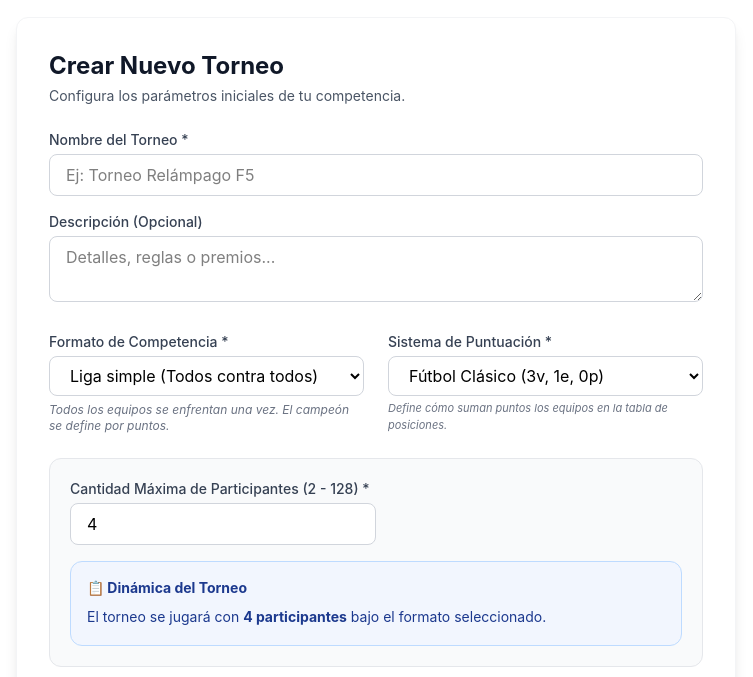
Scenario: CrearTorneoView (Formulario) › muestra la advertencia de llave asimétrica si los clasificados no son potencia de 2
Formato Liguilla + Playoffs
Select "Liguilla + Playoffs" in the dropdown showing "liga simple" below "Formato de Competencia *": point(206, 376) [49,356,364,396]
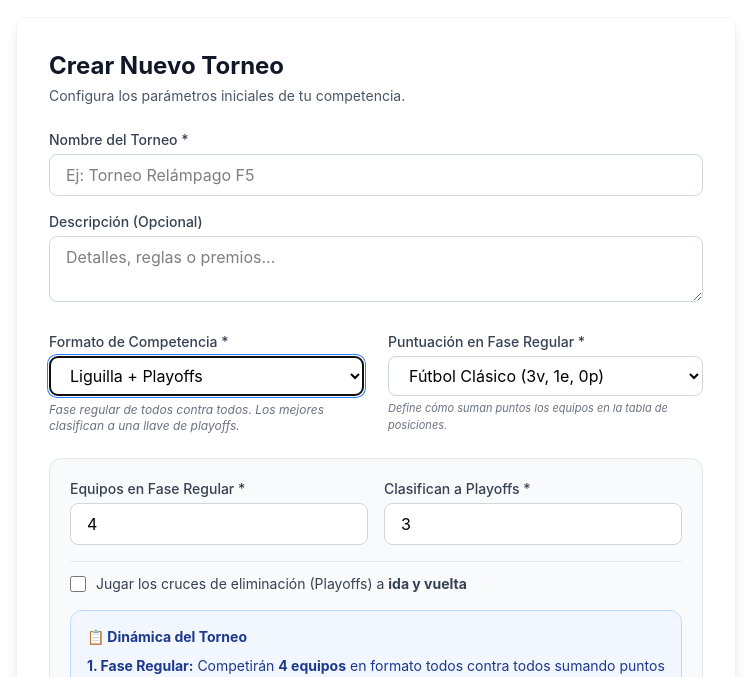
Equipos en fase regular: 16
Replace the text in the number field with placeholder "Ej: 16" below "Equipos en Fase Regular *" with "16": point(219, 524) [70,503,368,545]
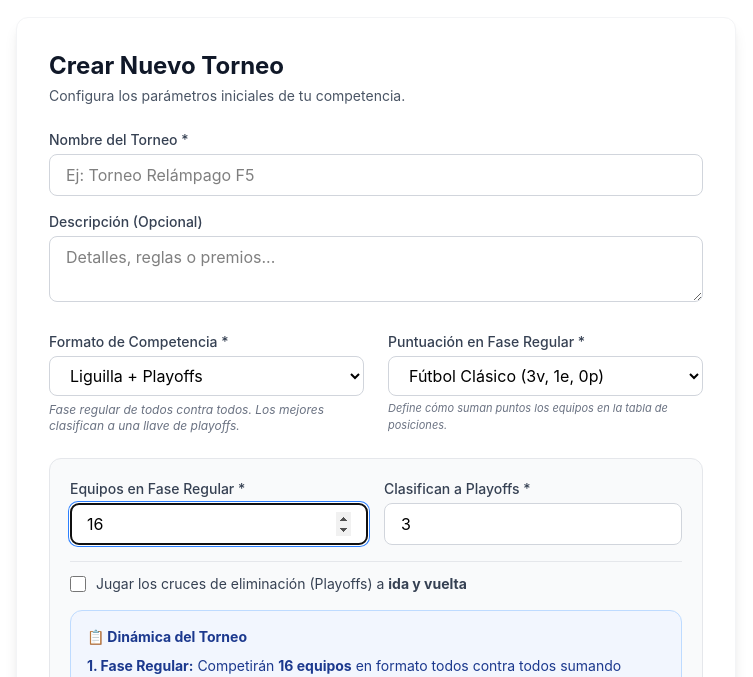
Clasifican a Playoffs: 10
Replace the text in the number field with placeholder "Ej: 8" below "Clasifican a Playoffs *" with "10": point(533, 524) [384,503,682,545]
(page scrolled)
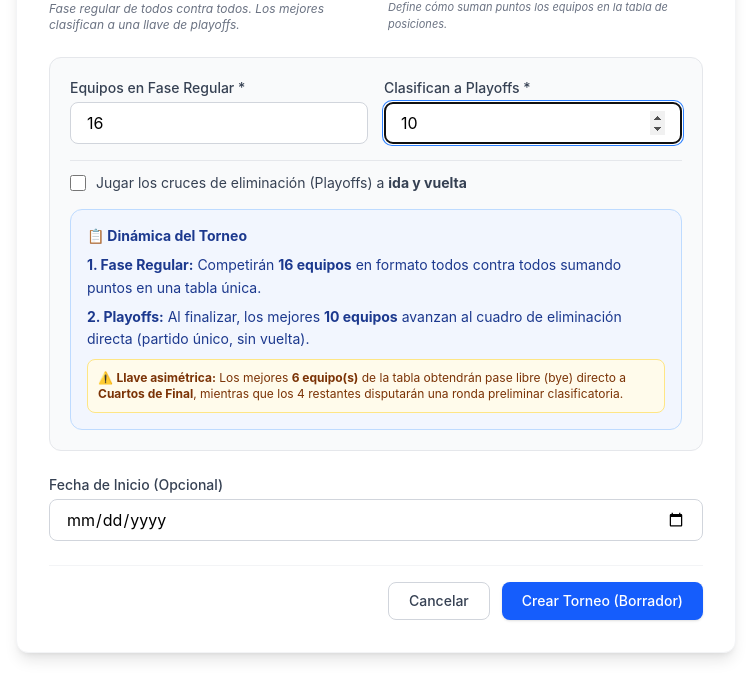
Expected: the text "Llave asimétrica:" is shown, [116,370,216,385]
Expected: the text "6 equipo(s)" is shown, [292,370,358,385]
Expected: the text "Cuartos de Final" is shown, [98,386,193,401]
